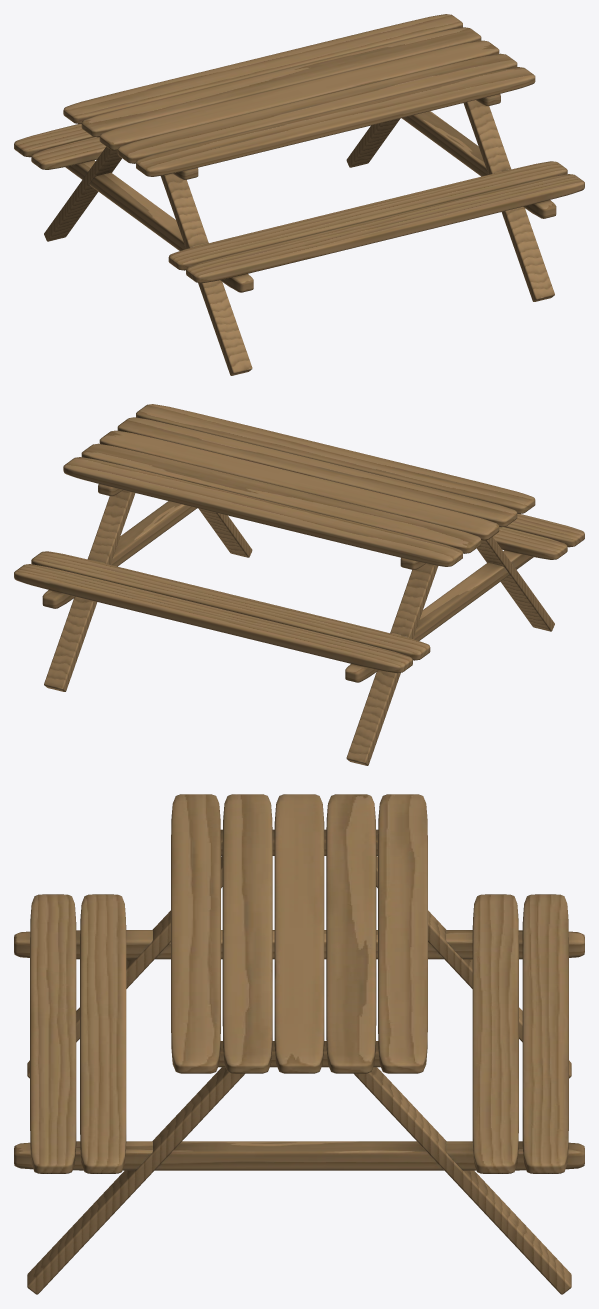
The model's file is natural.glb.
The picture shows the model from 3 angles, top to bottom: view 1: azimuth 30°, elevation 25°; view 2: azimuth 150°, elevation 25°; view 3: azimuth 270°, elevation 25°; orthographic projection. The views are drawn at different scales.
Visible parts, largest first — view 1: wood_x, wood_z, wood_y; view 2: wood_x, wood_z, wood_y; view 3: wood_x, wood_z, wood_y.
Part boxes in pixels (x1=…): wood_x: x1=14, y1=14, x2=584, y2=283; wood_z: x1=44, y1=100, x2=554, y2=375; wood_y: x1=65, y1=94, x2=556, y2=292; wood_x: x1=14, y1=404, x2=584, y2=673; wood_z: x1=44, y1=490, x2=554, y2=765; wood_y: x1=42, y1=484, x2=533, y2=682; wood_x: x1=30, y1=794, x2=568, y2=1173; wood_z: x1=27, y1=856, x2=571, y2=1294; wood_y: x1=14, y1=829, x2=584, y2=1170.
Size of the model in its own units: 1.8 by 0.7905 by 1.6.
Materials: 3 (3 with a texture image).
